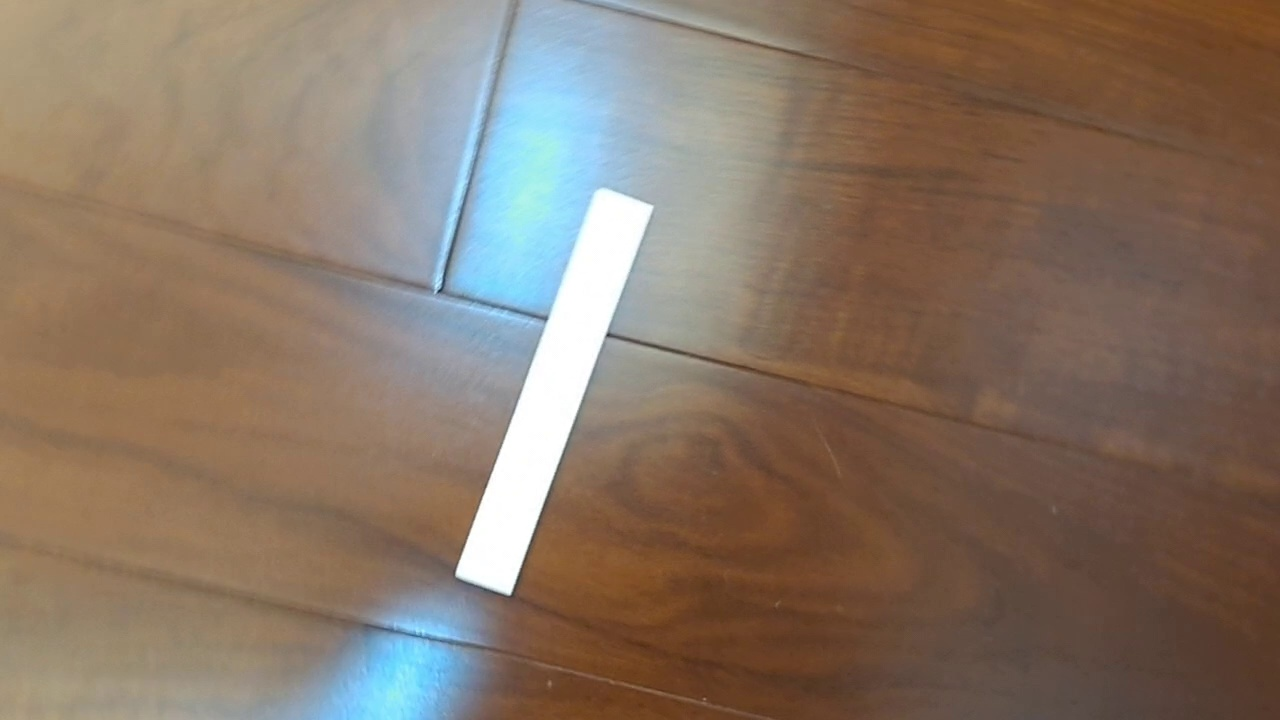ruler: (453, 186, 655, 598)
